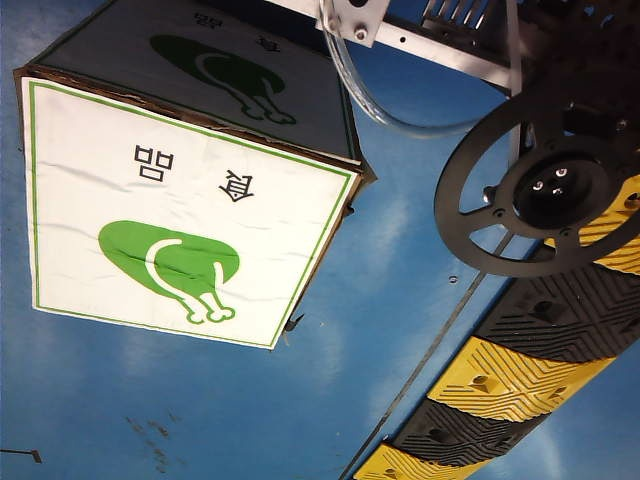Cube_food: (58, 129, 290, 329)
